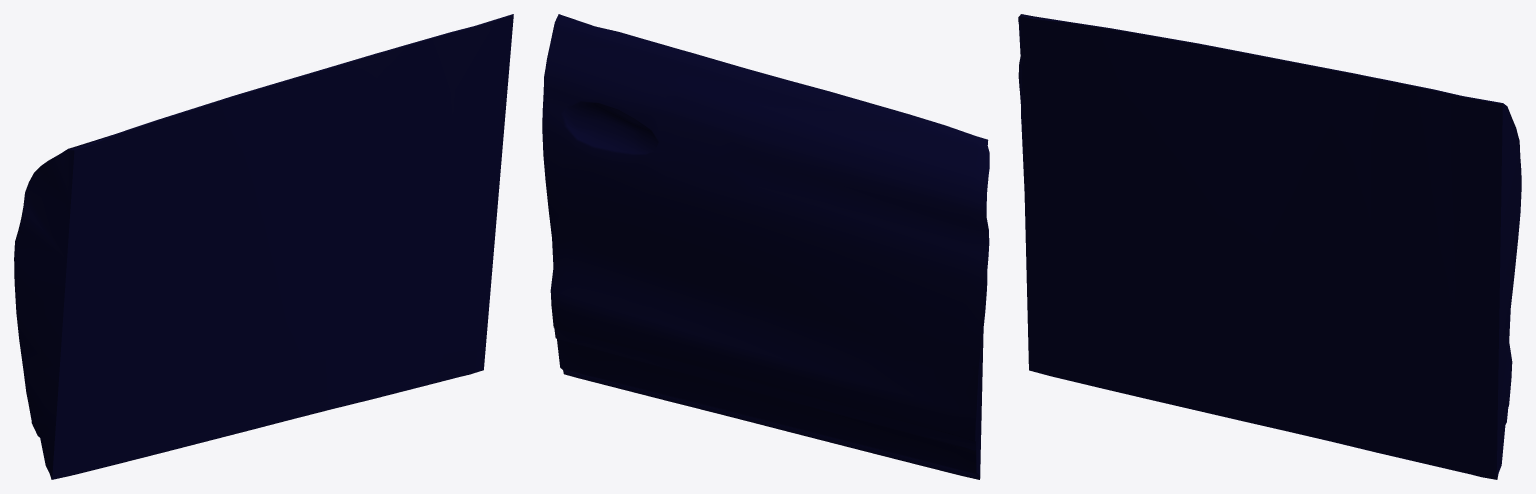
Rendered from SM_Car_MenR1.FBX.
The picture shows the model from 3 angles, left to right: view 1: azimuth 30°, elevation 25°; view 2: azimuth 150°, elevation 25°; view 3: azimuth 330°, elevation 25°; orthographic projection. The views are drawn at different scales.
Visible parts, largest first — view 1: polySurface3527; view 2: polySurface3527; view 3: polySurface3527.
Boxes of the visible parts, bbox=[...] form: polySurface3527: bbox=[14, 14, 513, 479]; polySurface3527: bbox=[542, 14, 989, 479]; polySurface3527: bbox=[1018, 14, 1521, 479].
Bounding box in the file's own units: 123 × 91.09 × 14.76.
